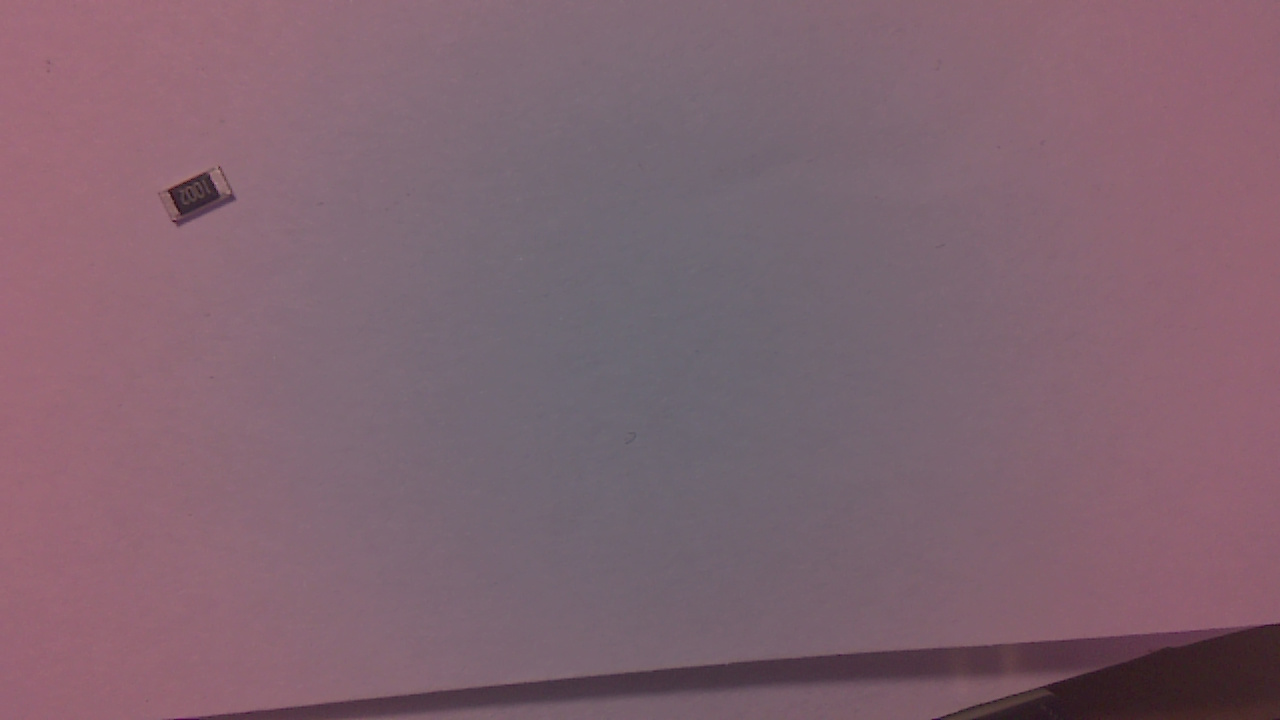Resistor: (166, 167, 239, 230)
